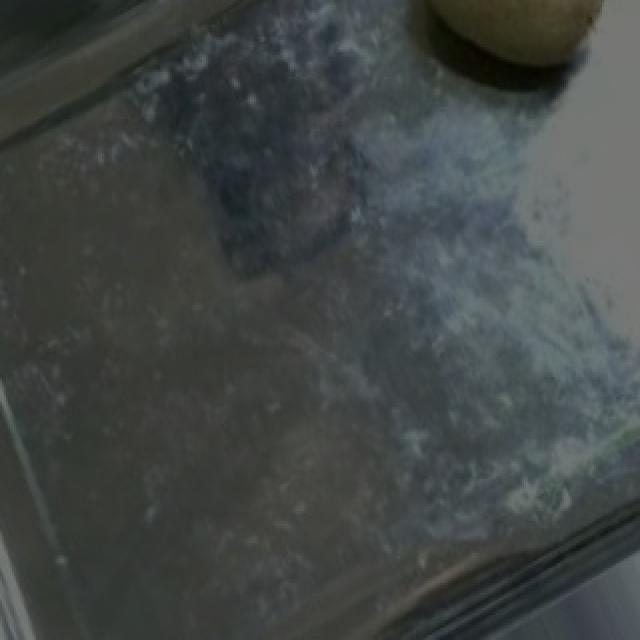Fruit: (388, 0, 638, 112)
